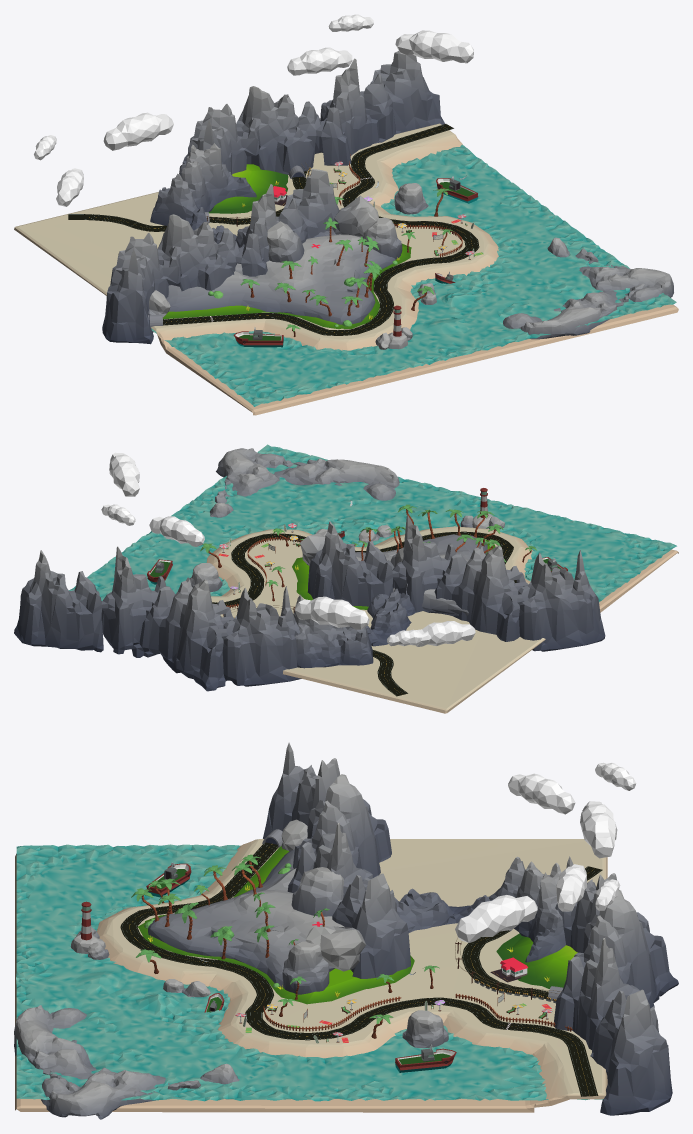
The model's file is BeachRace.fbx.
3 renders of one model, top to bottom at view 1: azimuth 30°, elevation 25°; view 2: azimuth 150°, elevation 25°; view 3: azimuth 270°, elevation 25°, orthographic. The views are drawn at different scales.
Parts seen in each view (by area): view 1: BeachProp.001; view 2: BeachProp.001; view 3: BeachProp.001.
Part boxes in pixels (x1,y1,x2,y2): BeachProp.001: (14,14,678,415); BeachProp.001: (14,444,678,713); BeachProp.001: (14,742,678,1119).
Size of the model in its own units: 27359 by 9110 by 26615.
Materials: 2 (2 with a texture image).
